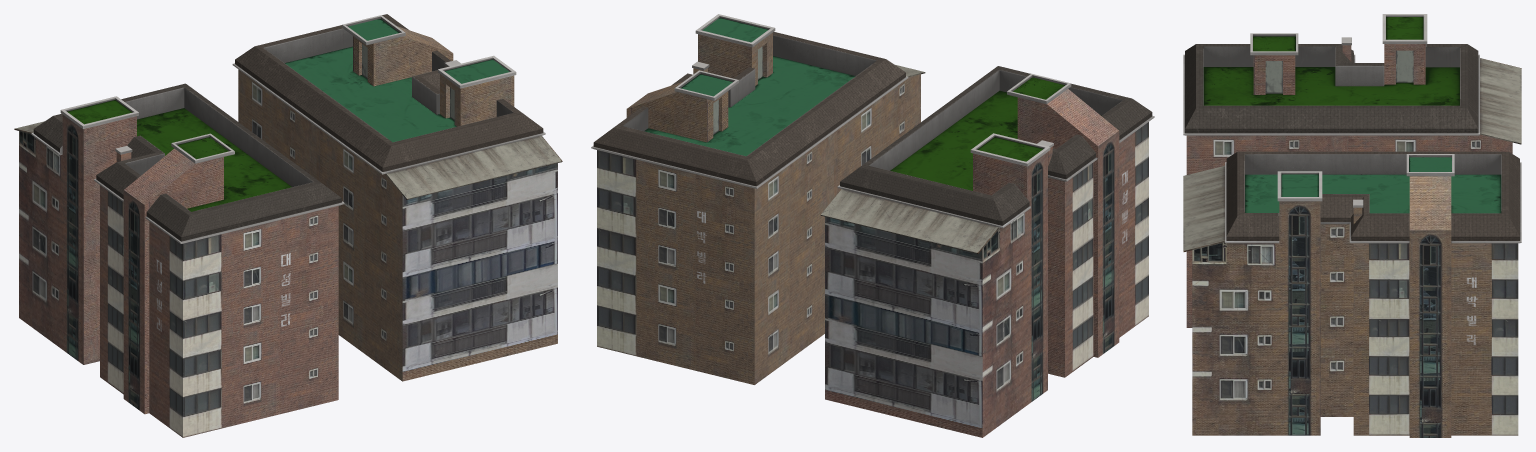
File: korean_multi_family_housing_clon6767.glb
The picture shows the model from 3 angles, left to right: view 1: azimuth 30°, elevation 25°; view 2: azimuth 150°, elevation 25°; view 3: azimuth 270°, elevation 25°; orthographic projection.
Visible parts, largest first — view 1: Object_2, Object_3; view 2: Object_2, Object_3; view 3: Object_3, Object_2.
Boxes of the visible parts, x1,y1,x2,y2 form: Object_2: [14, 83, 344, 437]; Object_3: [232, 14, 562, 381]; Object_2: [820, 66, 1154, 437]; Object_3: [591, 14, 925, 384]; Object_3: [1183, 151, 1521, 437]; Object_2: [1183, 14, 1521, 327].
Bounding box in the file's own units: 434 × 260 × 331.
2 materials, 2 textured.
